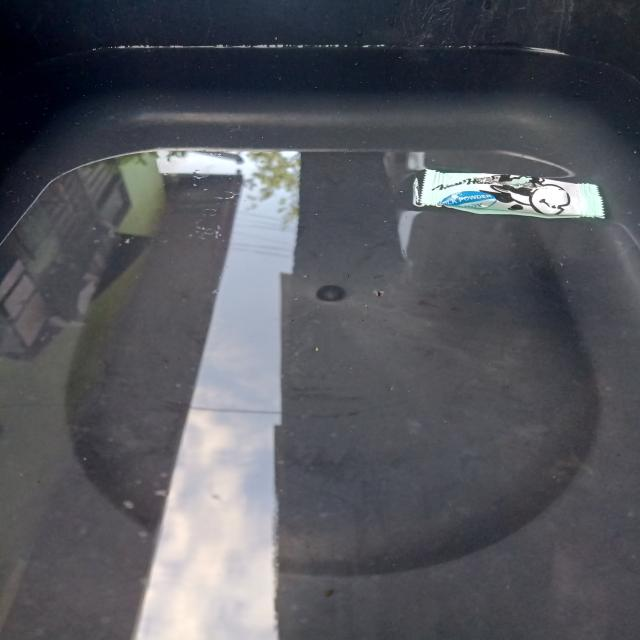Plastic Wrapper: (288, 145, 639, 321), (315, 110, 640, 248)
